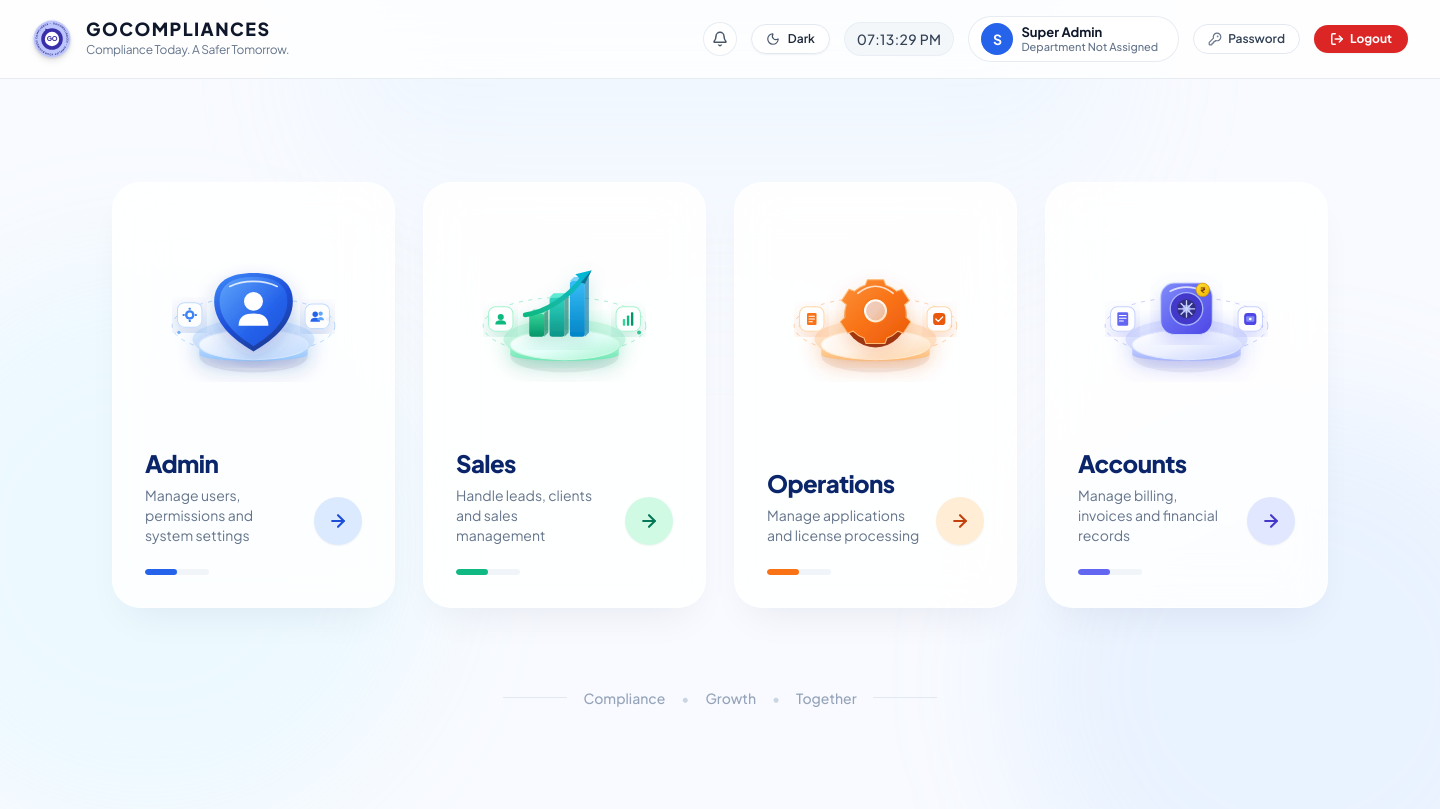
Test: Accounts Module Navigation & Page Tests › 1. Renders Accounts card on Dashboard for Super Admin and navigates directly to /accounts on click
Expected: the heading "Accounts" is shown, [1078,448,1186,478]
Click the element "Accounts" at {"x": 1154, "y": 496}, box [1078,446,1231,544]
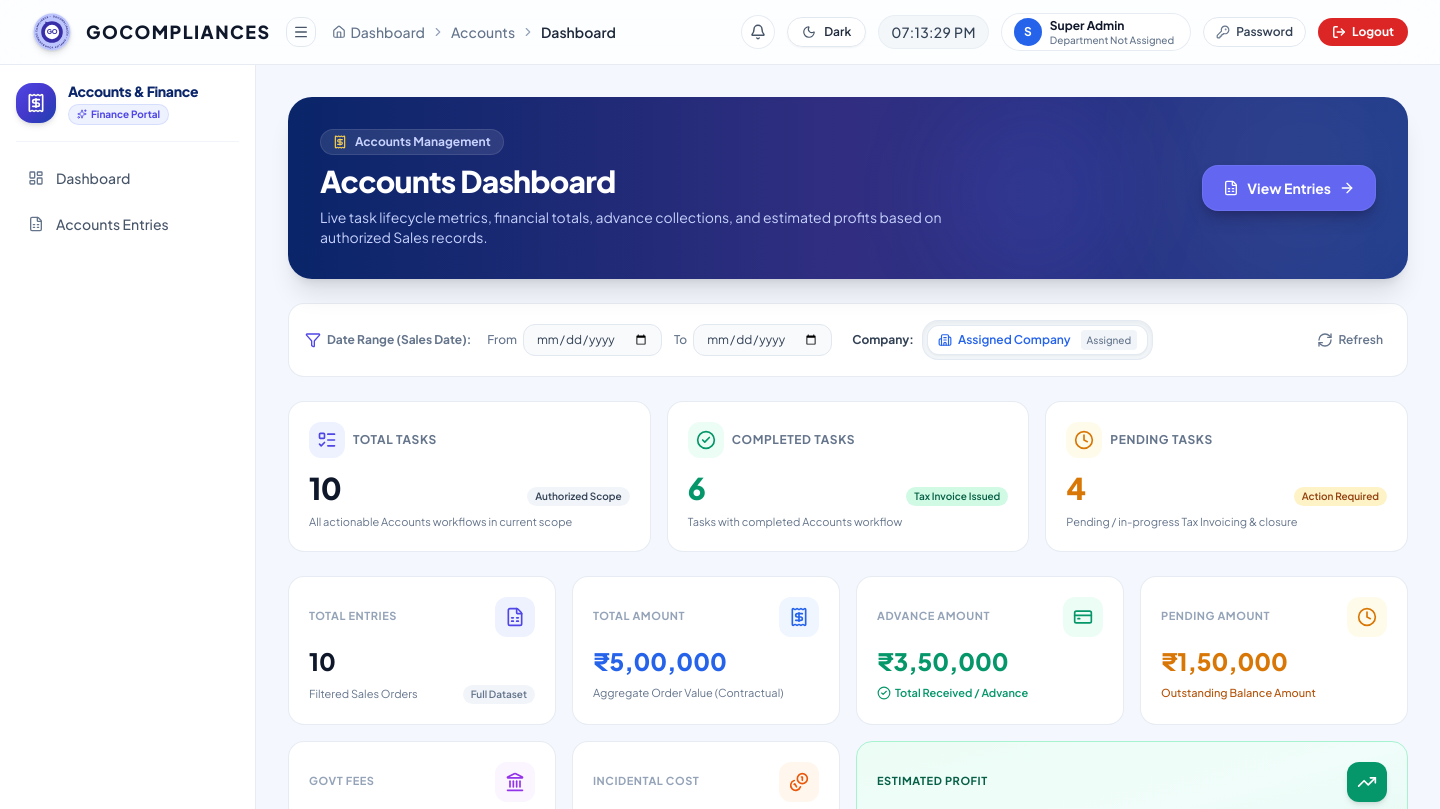
Now the heading "Accounts Dashboard" is shown, box [320,162,616,200]
